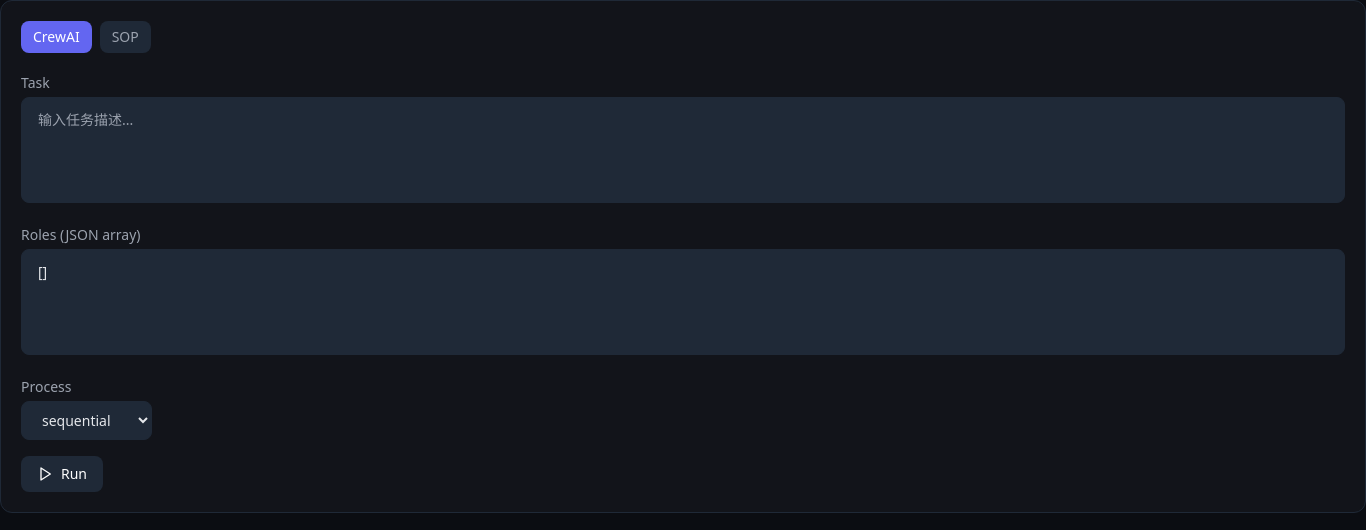
Test: WorkflowStudio › selects template and runs SOP
Click the button "SOP" at (125, 37), box left=100, top=21, right=151, bottom=53
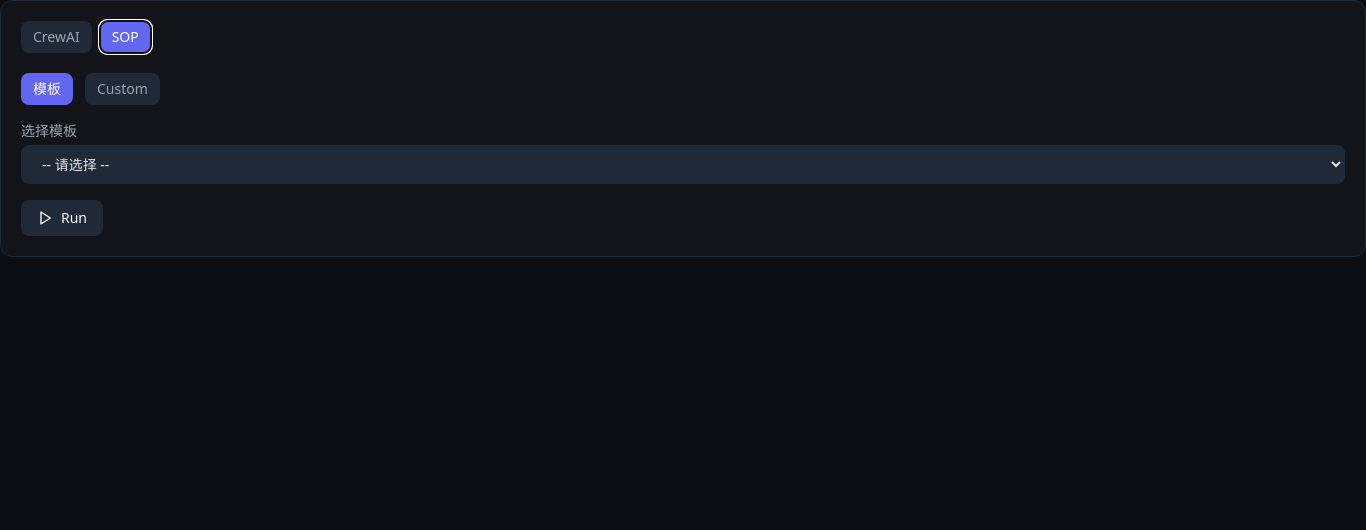
Select "Template One" in the dropdown at (683, 164), box left=21, top=145, right=1345, bottom=184
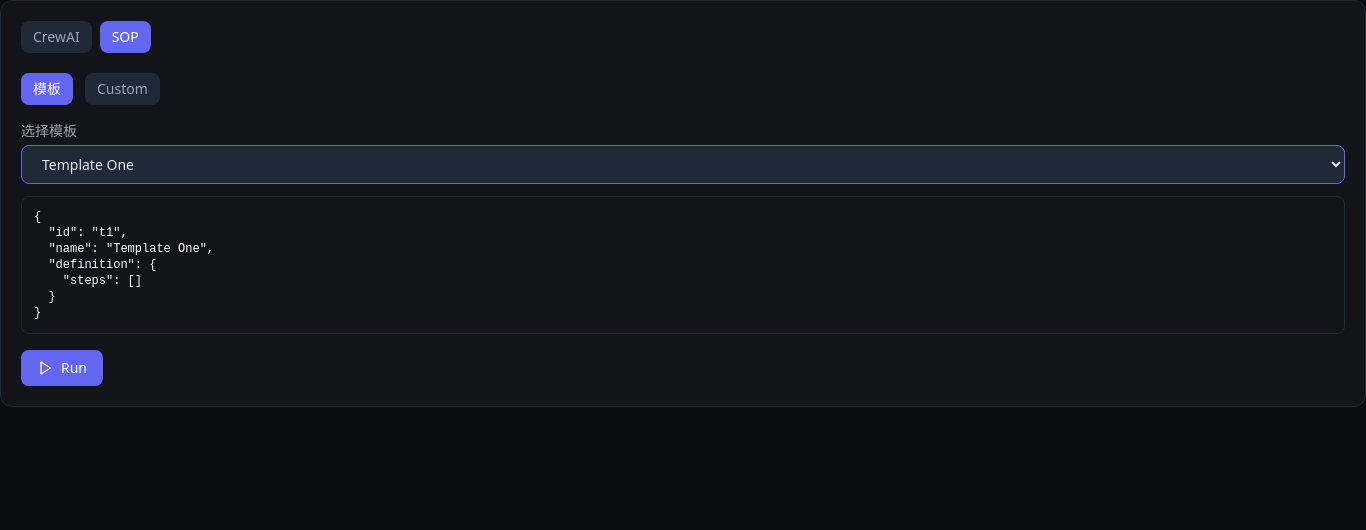
Now the text "steps" is shown, box left=34, top=210, right=214, bottom=320
Click the button "Run" at (62, 368), box left=21, top=350, right=103, bottom=386
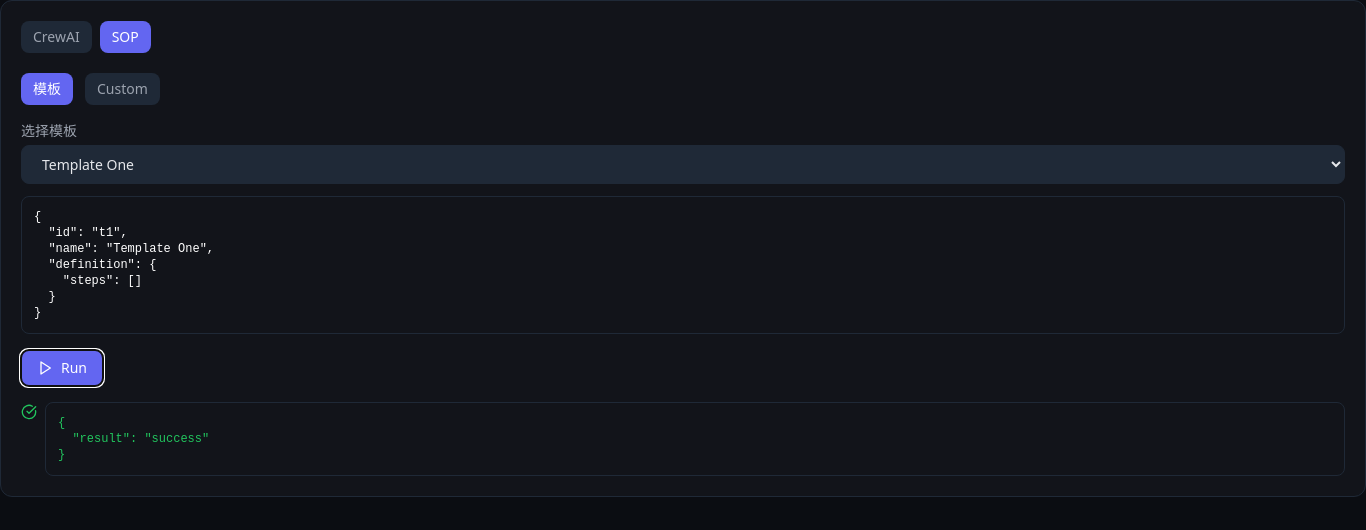
Now the text "{ \"result\": \"success\" }" is shown, box left=45, top=402, right=1345, bottom=476
